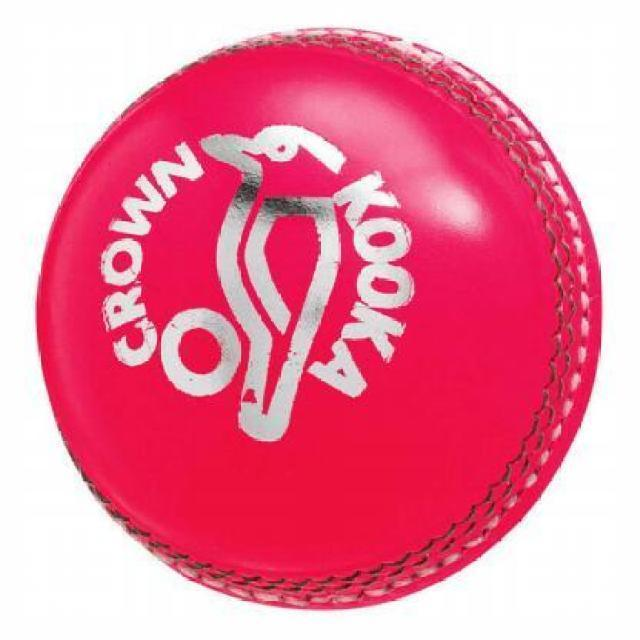-: (54, 46, 563, 592)
